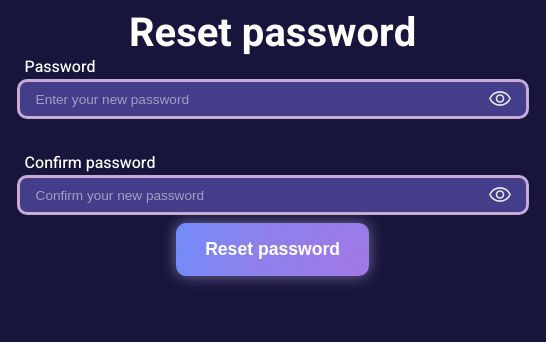
Test: ResetPasswordFormLogged › validates short password and missing confirm-password (minLength + required)
Check: the form with id "resetPassword" is shown, box top-left (17, 47), bottom-right (529, 223)
Type a too-short password
Type "short" into the password field with placeholder "Enter your new password" at coordinates (273, 99), box top-left (17, 79), bottom-right (529, 119)
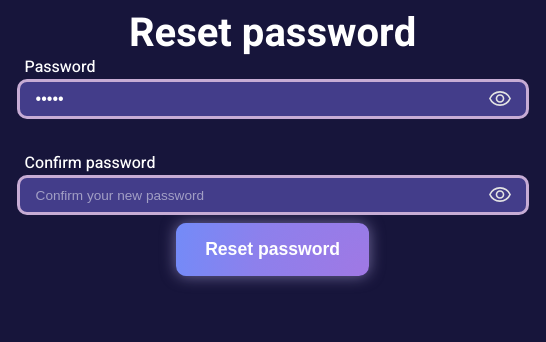
Submit the form
Submit the form with id "resetPassword", box top-left (17, 47), bottom-right (529, 223)
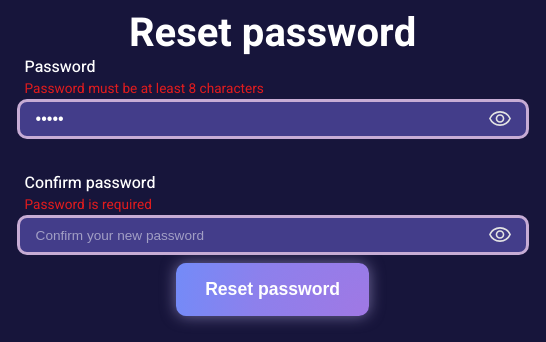
Check: the number of messages is 2, box top-left (25, 79), bottom-right (264, 99); top-left (25, 195), bottom-right (152, 215)
Check: the message "Password must be at least 8 characters" is shown, box top-left (25, 79), bottom-right (264, 99)
Check: the message "Password is required" is shown, box top-left (25, 195), bottom-right (152, 215)
